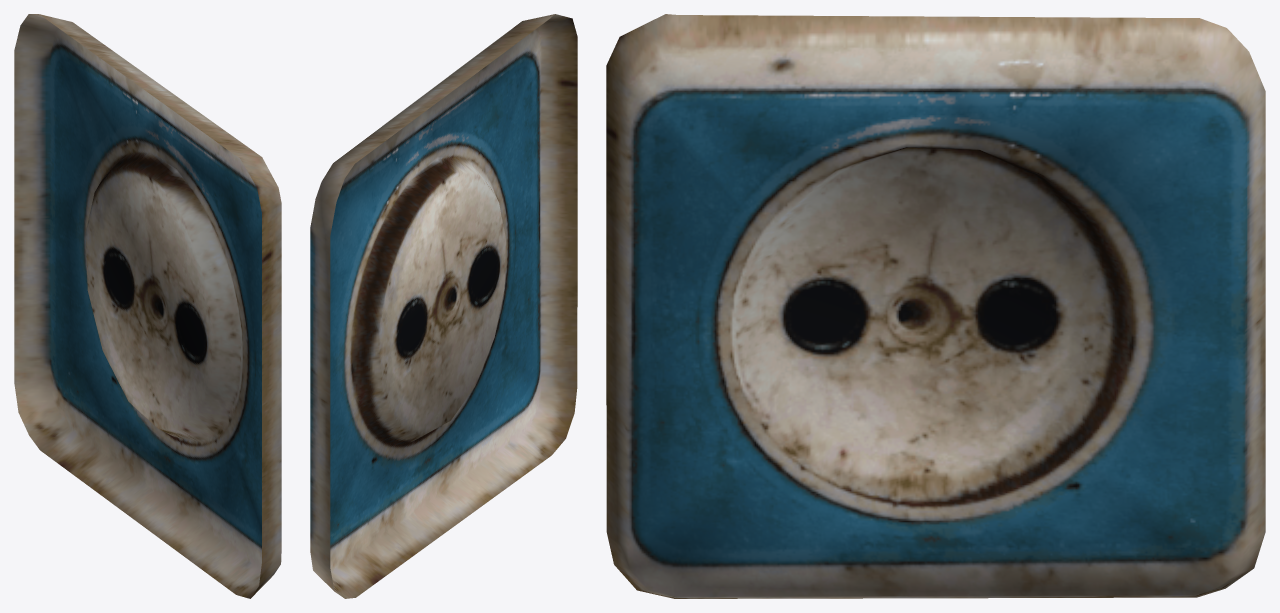
The model's file is Electrical_Socket_02.fbx.
3 renders of one model, left to right at view 1: azimuth 30°, elevation 25°; view 2: azimuth 150°, elevation 25°; view 3: azimuth 270°, elevation 25°, orthographic. The views are drawn at different scales.
Visible parts, largest first — view 1: Electrical_Socket_02; view 2: Electrical_Socket_02; view 3: Electrical_Socket_02.
Part boxes in pixels (x1,y1,x2,y2): Electrical_Socket_02: [14, 14, 281, 598]; Electrical_Socket_02: [310, 14, 577, 598]; Electrical_Socket_02: [606, 14, 1265, 598].
Size of the model in its own units: 0.6833 by 10.53 by 10.31.
Materials: 1 (1 with a texture image).
